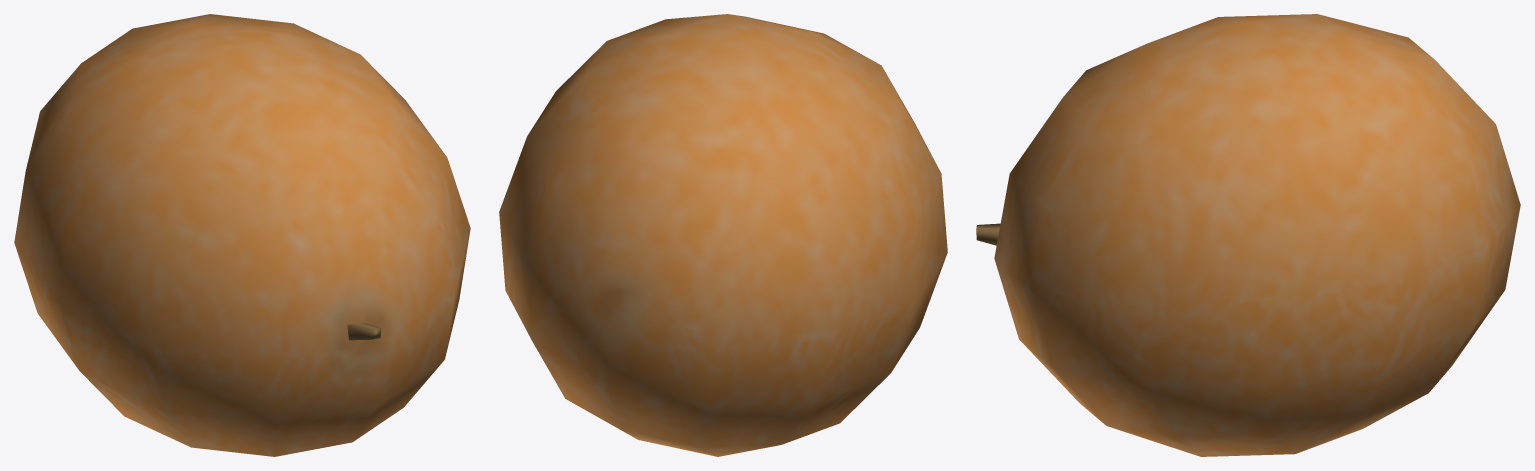
The model's file is SM_SP_FruitsMelon02.fbx.
3 views of the same model, side by side, from view 1: azimuth 30°, elevation 25°; view 2: azimuth 150°, elevation 25°; view 3: azimuth 270°, elevation 25° (orthographic). The views are drawn at different scales.
Visible parts, largest first — view 1: SM_SP_FruitsMelon02_LOD0; view 2: SM_SP_FruitsMelon02_LOD0; view 3: SM_SP_FruitsMelon02_LOD0.
Boxes of the visible parts, x1=… form: SM_SP_FruitsMelon02_LOD0: x1=14, y1=14, x2=470, y2=456; SM_SP_FruitsMelon02_LOD0: x1=499, y1=14, x2=947, y2=456; SM_SP_FruitsMelon02_LOD0: x1=976, y1=14, x2=1520, y2=456.
Size of the model in its own units: 11.69 by 14.21 by 11.65.
Materials: 1 (1 with a texture image).
